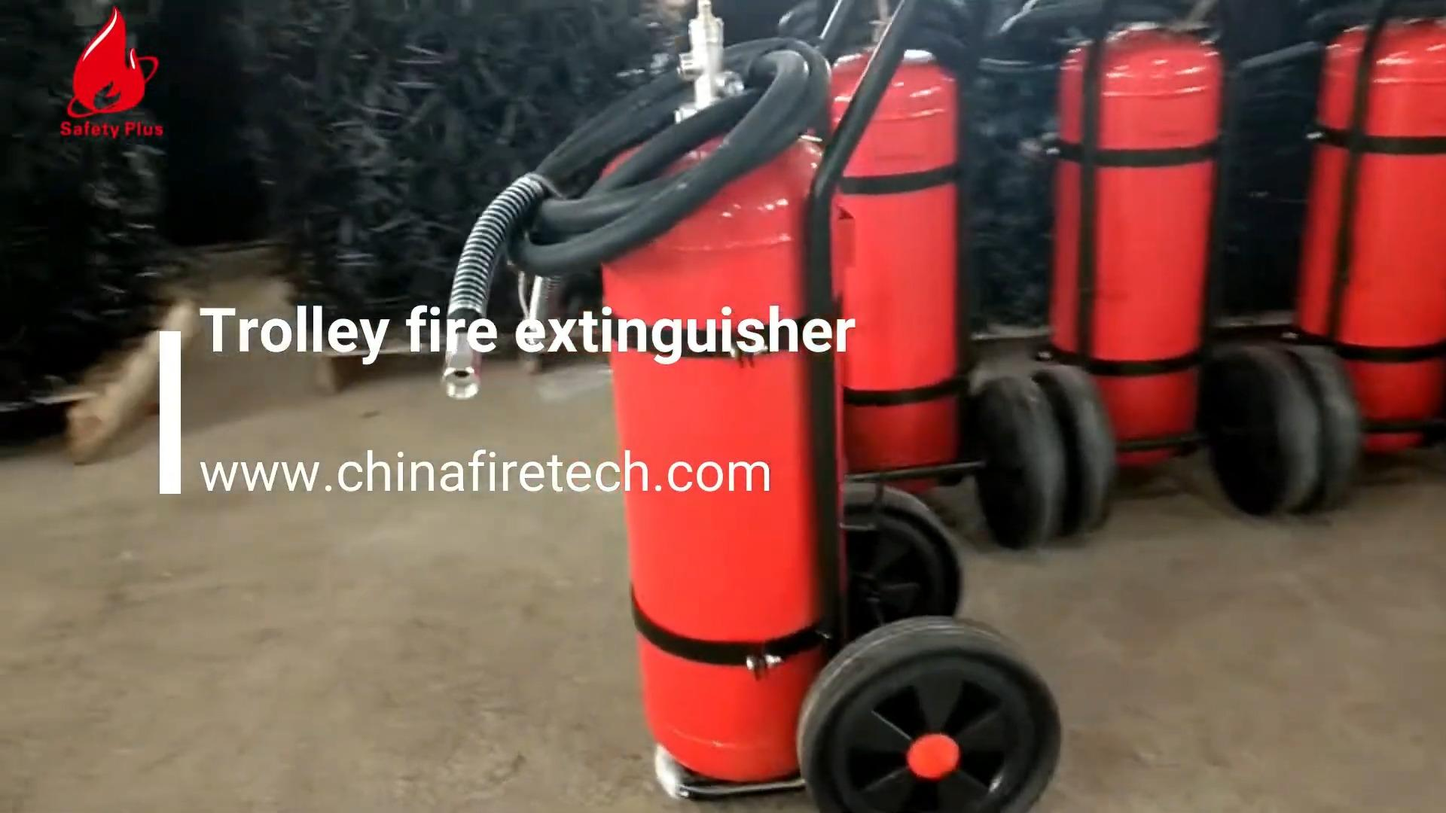FireExtinguisher: (570, 17, 851, 811), (1027, 0, 1251, 494), (1273, 0, 1446, 505), (814, 8, 983, 506)
